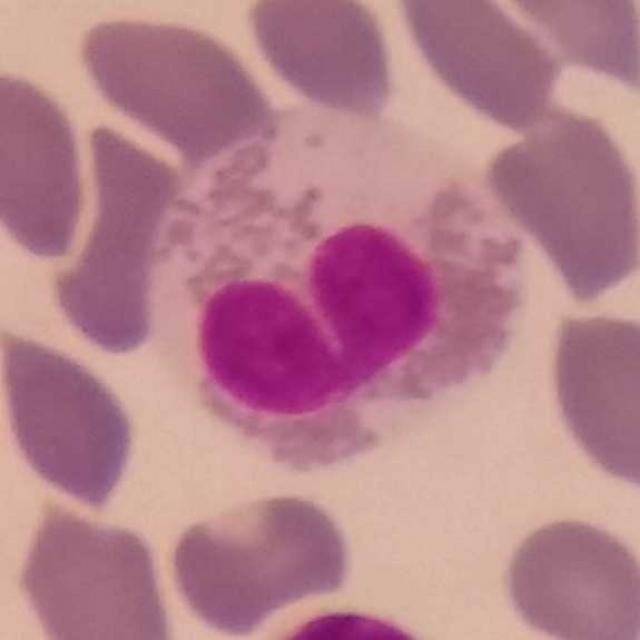Eosinophil: (140, 108, 536, 476), (236, 599, 462, 640)
RBC: (42, 124, 200, 360), (477, 104, 640, 307), (74, 7, 278, 154), (165, 485, 355, 639), (0, 317, 144, 513), (12, 496, 183, 640), (388, 0, 566, 135), (240, 0, 403, 120), (541, 303, 640, 500), (0, 62, 95, 265), (497, 511, 640, 640), (478, 0, 640, 102)
